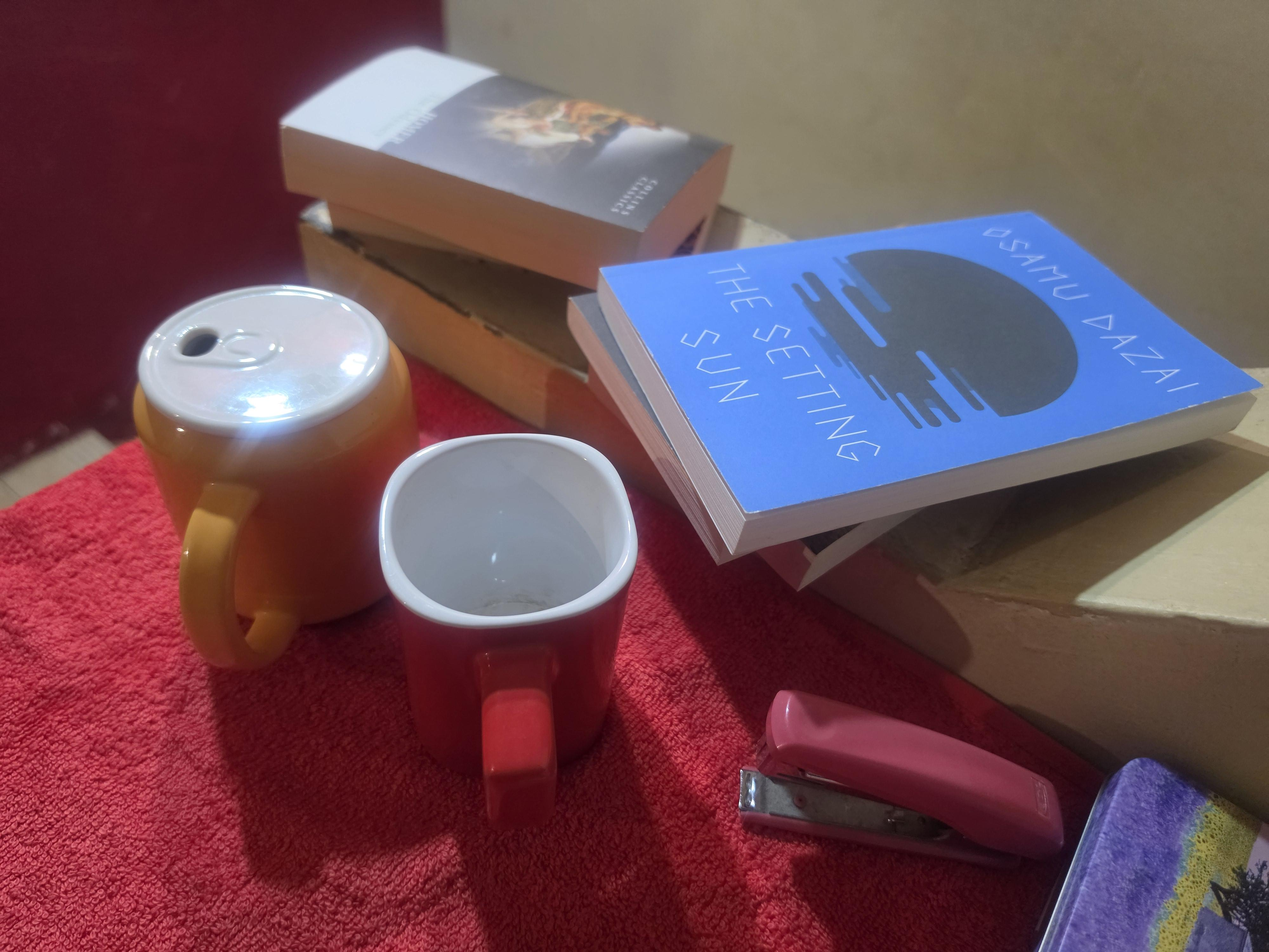mug: (131, 283, 425, 671), (378, 432, 640, 832)
